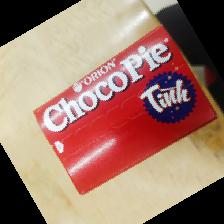Chocopie: (32, 24, 217, 197)
